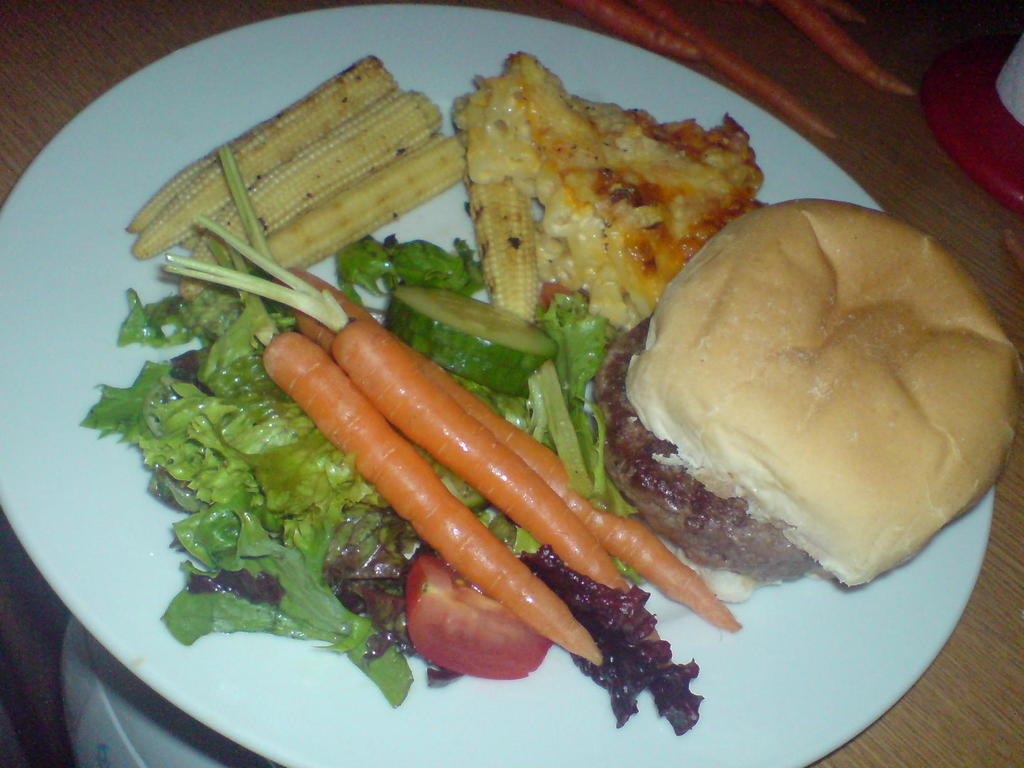hamburger: (592, 198, 1023, 587)
